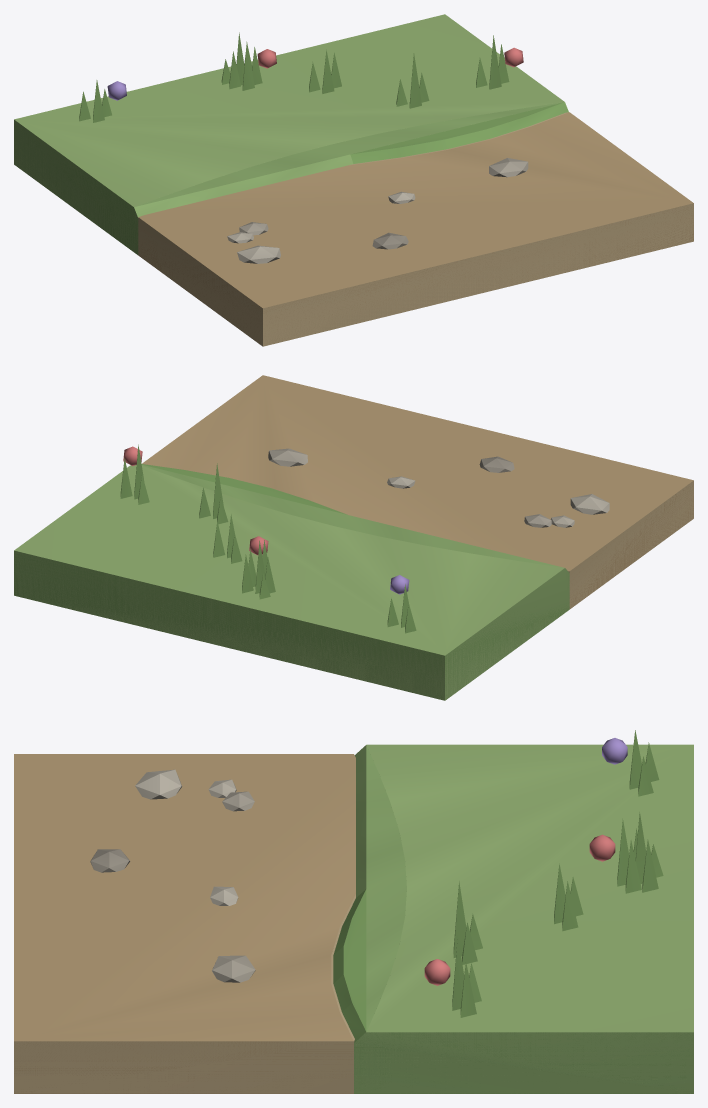
Rendered from terrain.path.edge.glb.
3 views of the same model, one above another, from view 1: azimuth 30°, elevation 25°; view 2: azimuth 150°, elevation 25°; view 3: azimuth 270°, elevation 25° (orthographic). The views are drawn at different scales.
Parts seen in each view (by area): view 1: terrain.path.edge.v1.mesh, terrain.path.edge.v2.mesh, terrain.path.edge.v0.mesh; view 2: terrain.path.edge.v1.mesh, terrain.path.edge.v2.mesh, terrain.path.edge.v0.mesh; view 3: terrain.path.edge.v1.mesh, terrain.path.edge.v2.mesh, terrain.path.edge.v0.mesh.
Boxes of the visible parts, left/top/right/bottom form: terrain.path.edge.v1.mesh: left=14, top=32, right=693, bottom=345; terrain.path.edge.v2.mesh: left=14, top=14, right=693, bottom=346; terrain.path.edge.v0.mesh: left=14, top=41, right=693, bottom=346; terrain.path.edge.v1.mesh: left=14, top=375, right=693, bottom=699; terrain.path.edge.v2.mesh: left=14, top=444, right=693, bottom=700; terrain.path.edge.v0.mesh: left=14, top=464, right=693, bottom=700; terrain.path.edge.v1.mesh: left=14, top=754, right=693, bottom=1093; terrain.path.edge.v2.mesh: left=14, top=730, right=693, bottom=1093; terrain.path.edge.v0.mesh: left=14, top=745, right=693, bottom=1093.
Bounding box in the file's own units: 1 × 0.2195 × 1.
